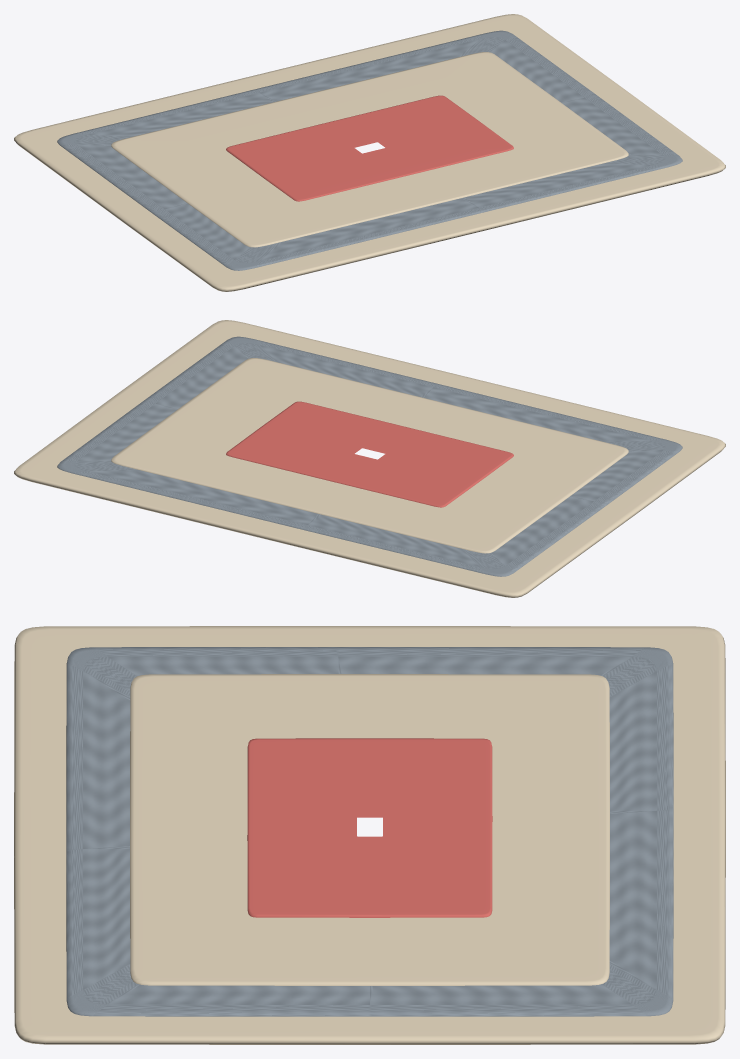
The model's file is pets-and-companions-hd-rug-b811e9ad.glb.
3 views of the same model, one above another, from view 1: azimuth 30°, elevation 25°; view 2: azimuth 150°, elevation 25°; view 3: azimuth 270°, elevation 25° (orthographic). The views are drawn at different scales.
Parts seen in each view (by area): view 1: rug; view 2: rug; view 3: rug.
Part boxes in pixels (x1,y1,x2,y2): rug: [14, 14, 725, 291]; rug: [14, 320, 725, 597]; rug: [14, 626, 725, 1044].
Bounding box in the file's own units: 2 × 0.026 × 1.45.
Materials: 3 (1 with a texture image).
